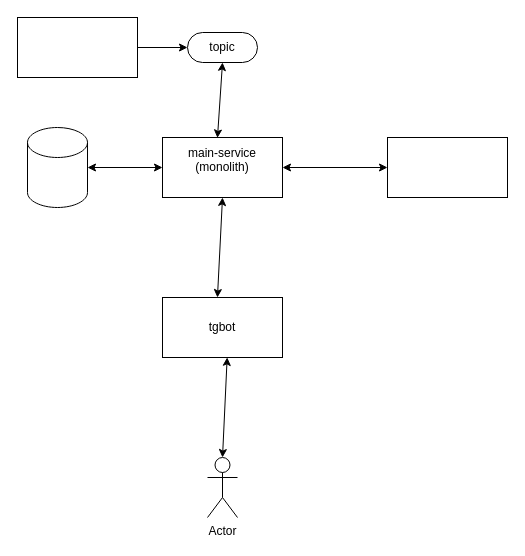
Image size: 525x556. Some labels were removed from this diagram. The box of each missing label's shape, as (x1, y1, x2, y2) in pixels:
scrapers: (16, 16, 138, 78)
web service with ml model (satellite): (386, 136, 508, 198)
